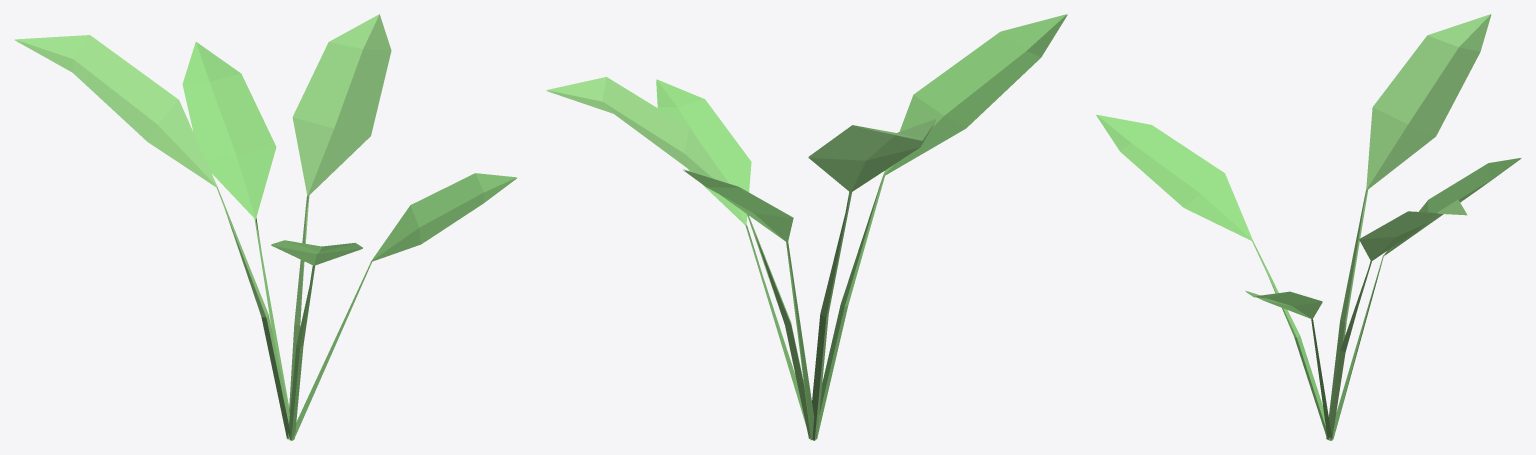
Rendered from Plant_j_TwoS_04.fbx.
3 renders of one model, left to right at view 1: azimuth 30°, elevation 25°; view 2: azimuth 150°, elevation 25°; view 3: azimuth 270°, elevation 25°, orthographic. The views are drawn at different scales.
Visible parts, largest first — view 1: Plant_j_TwoS_04; view 2: Plant_j_TwoS_04; view 3: Plant_j_TwoS_04.
Part boxes in pixels (bbox=[...]): Plant_j_TwoS_04: bbox=[14, 14, 516, 440]; Plant_j_TwoS_04: bbox=[546, 14, 1067, 440]; Plant_j_TwoS_04: bbox=[1096, 14, 1521, 440].
Bounding box in the file's own units: 50.38 × 49.32 × 55.46.
